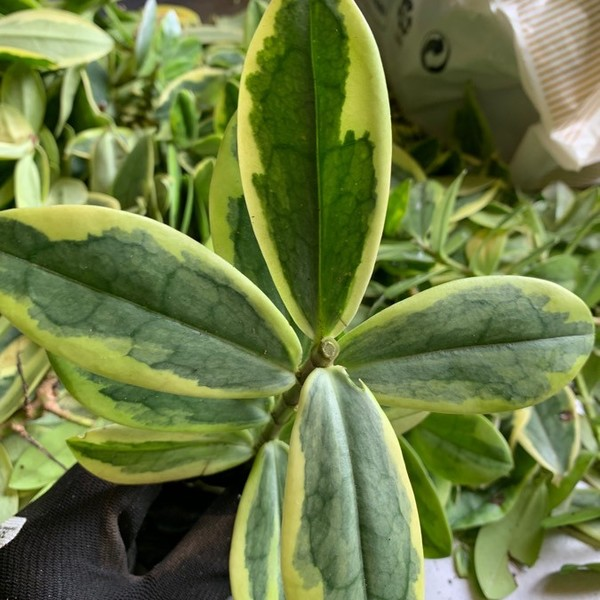obstacle: (13, 15, 574, 573)
